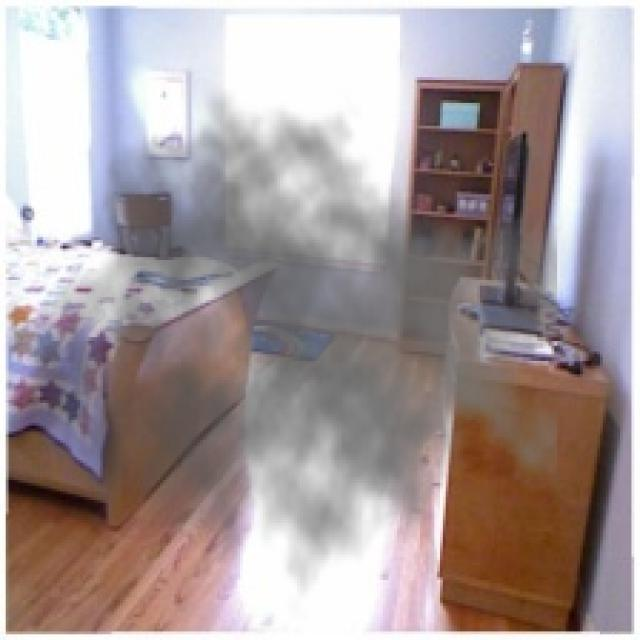Smoke: (25, 89, 558, 620)
